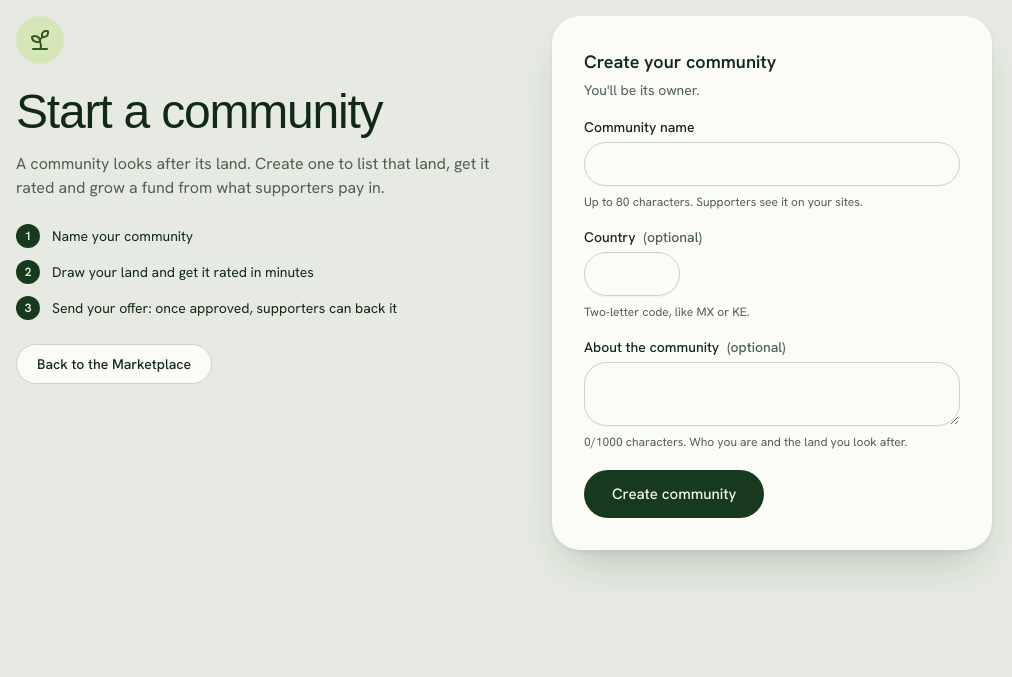
Test case: creating a community › shows the community cap, above the button
The image size is (1012, 677).
Expected: the heading "Start a community" is shown, [16, 85, 382, 138]
Step 1. Type "Selva Viva" into the field labelled "Community name" → x=772, y=164, box [584, 142, 960, 186]
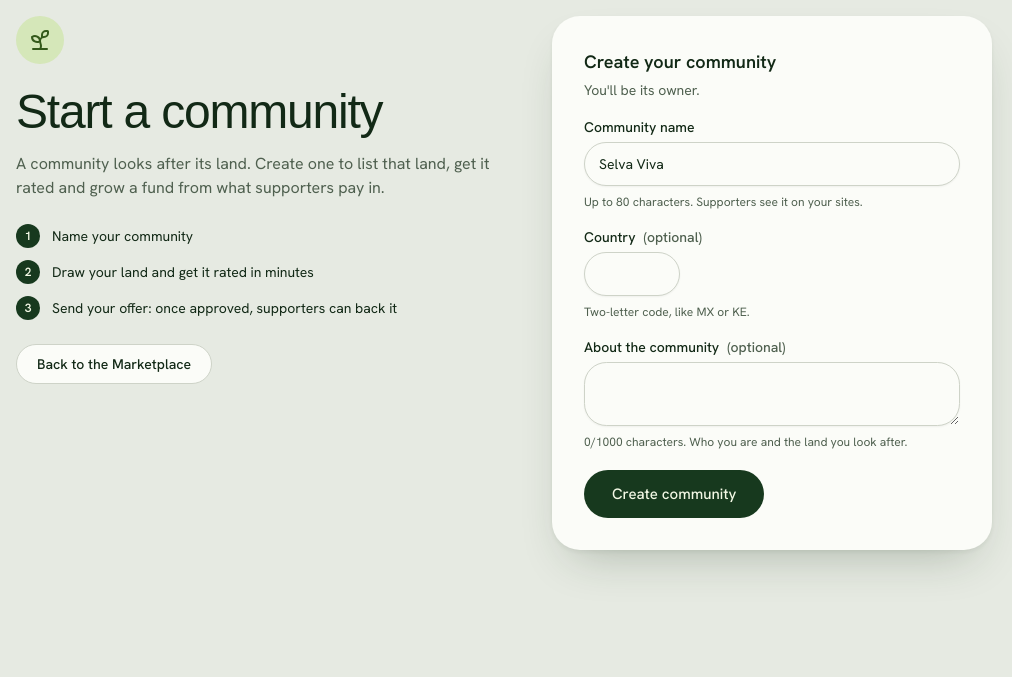
Step 2. Click the button "Create community" → x=674, y=494, box [584, 470, 764, 518]
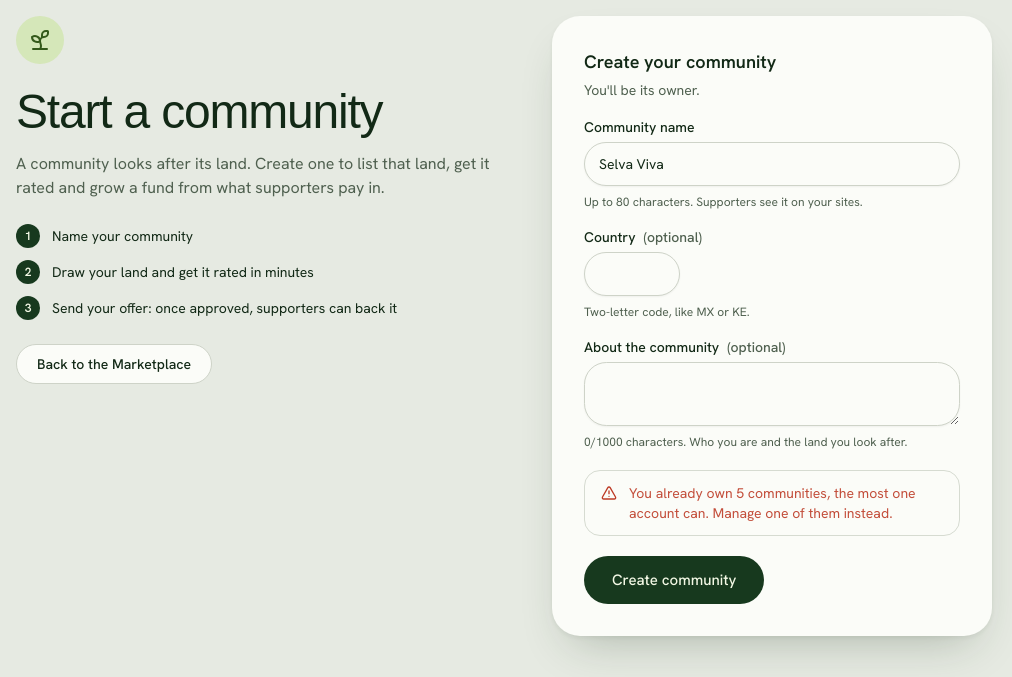
Result: the message shows "5 communities" at [629, 484, 916, 522]
